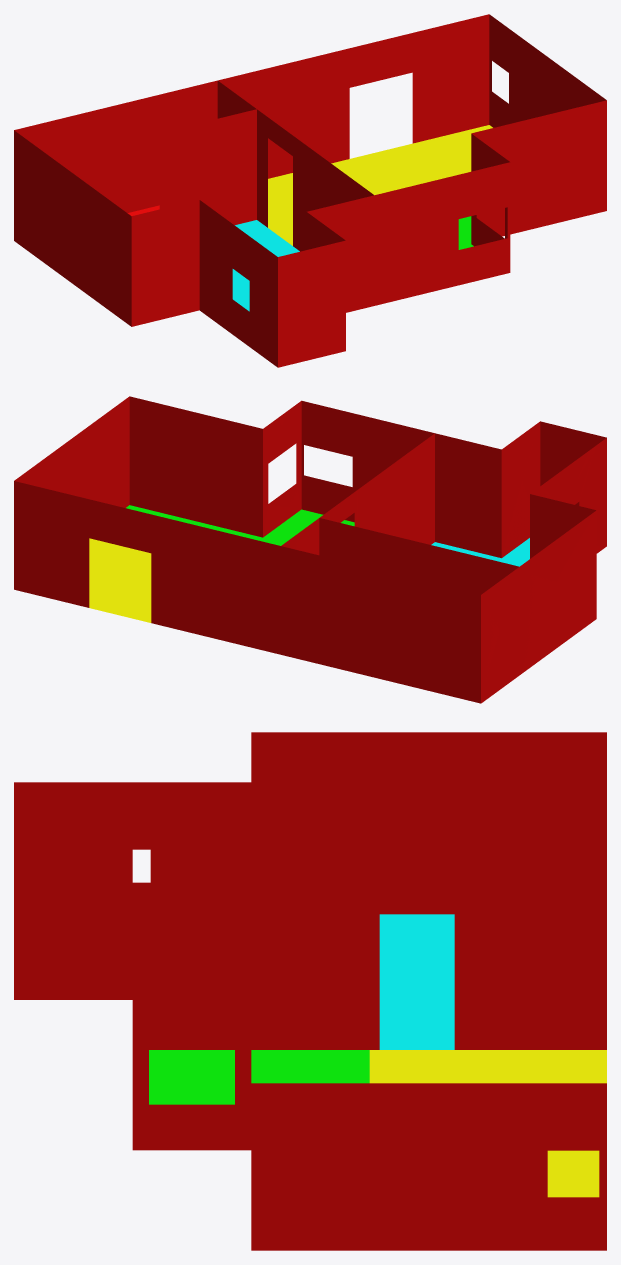
Rendered from Structure.fbx.
3 renders of one model, top to bottom at view 1: azimuth 30°, elevation 25°; view 2: azimuth 150°, elevation 25°; view 3: azimuth 270°, elevation 25°, orthographic. The views are drawn at different scales.
Visible parts, largest first — view 1: Wall_Exterior, Wall_3, Wall_1, Wall_4, Wall_2, Floor; view 2: Wall_Exterior, Wall_3, Wall_4, Wall_2, Wall_1, Floor; view 3: Wall_Exterior, Wall_4, Wall_2, Wall_3, Floor, Wall_1.
Boxes of the visible parts, box(x1,y1,x2,y2) form: Wall_Exterior: box(14, 14, 606, 367); Wall_3: box(296, 72, 606, 305); Wall_1: box(14, 80, 256, 251); Wall_4: box(53, 112, 374, 367); Wall_2: box(218, 15, 567, 247); Floor: box(127, 125, 492, 311); Wall_Exterior: box(14, 397, 606, 703); Wall_3: box(97, 396, 434, 544); Wall_4: box(319, 422, 606, 674); Wall_2: box(14, 429, 356, 653); Wall_1: box(281, 518, 519, 702); Floor: box(89, 505, 529, 622); Wall_Exterior: box(14, 732, 606, 1250); Wall_4: box(14, 732, 488, 1049); Wall_2: box(369, 882, 606, 1250); Wall_3: box(132, 882, 369, 1250); Floor: box(149, 914, 606, 1197); Wall_1: box(488, 732, 606, 900).
Bounding box in the file's own units: 1468 × 327 × 1049.
